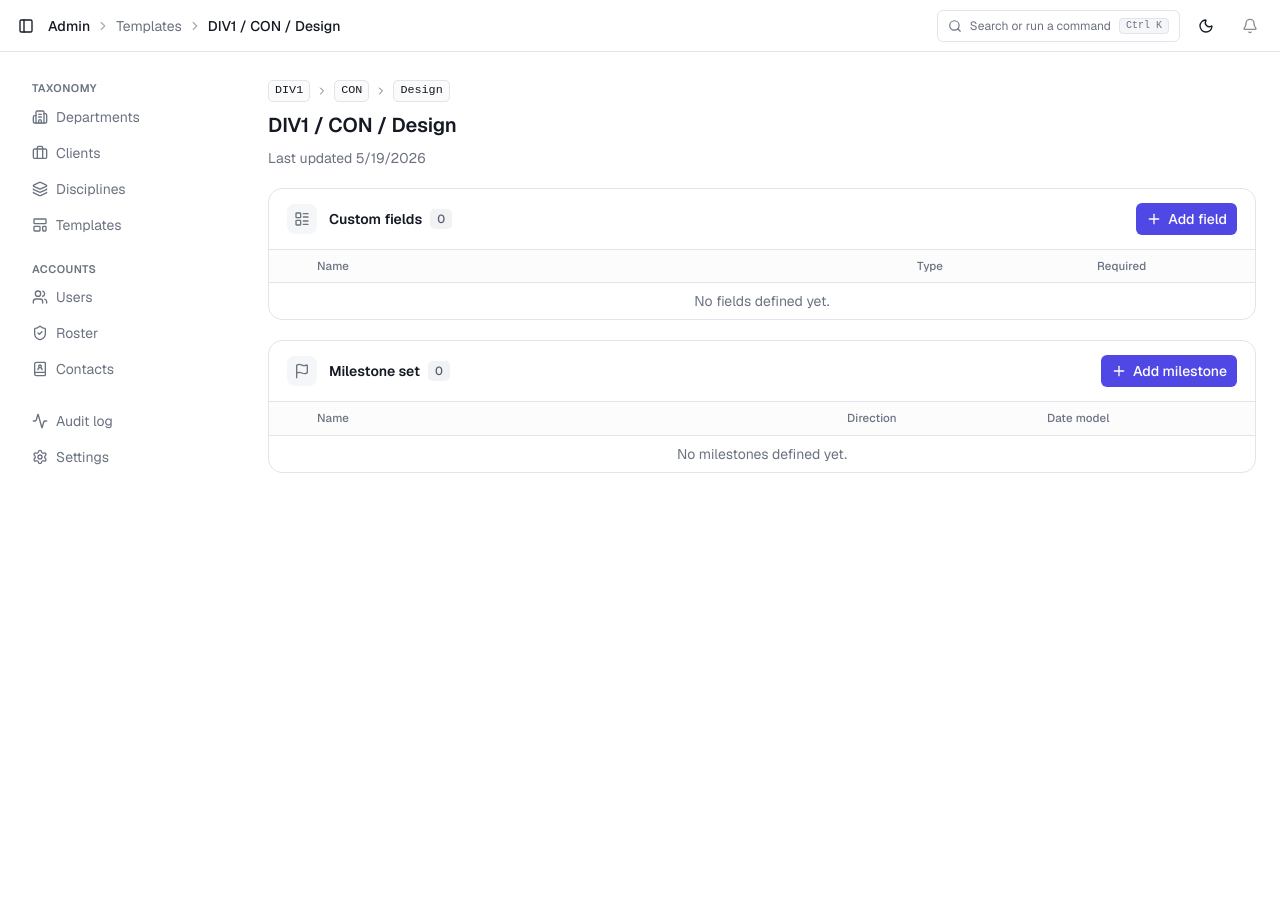
Test case: TemplateDetailPage › opens the New field sheet with the expected controls
The image size is (1280, 900).
Click the button "Add field": x=1187, y=219 x1=1136 y1=203 x2=1237 y2=235
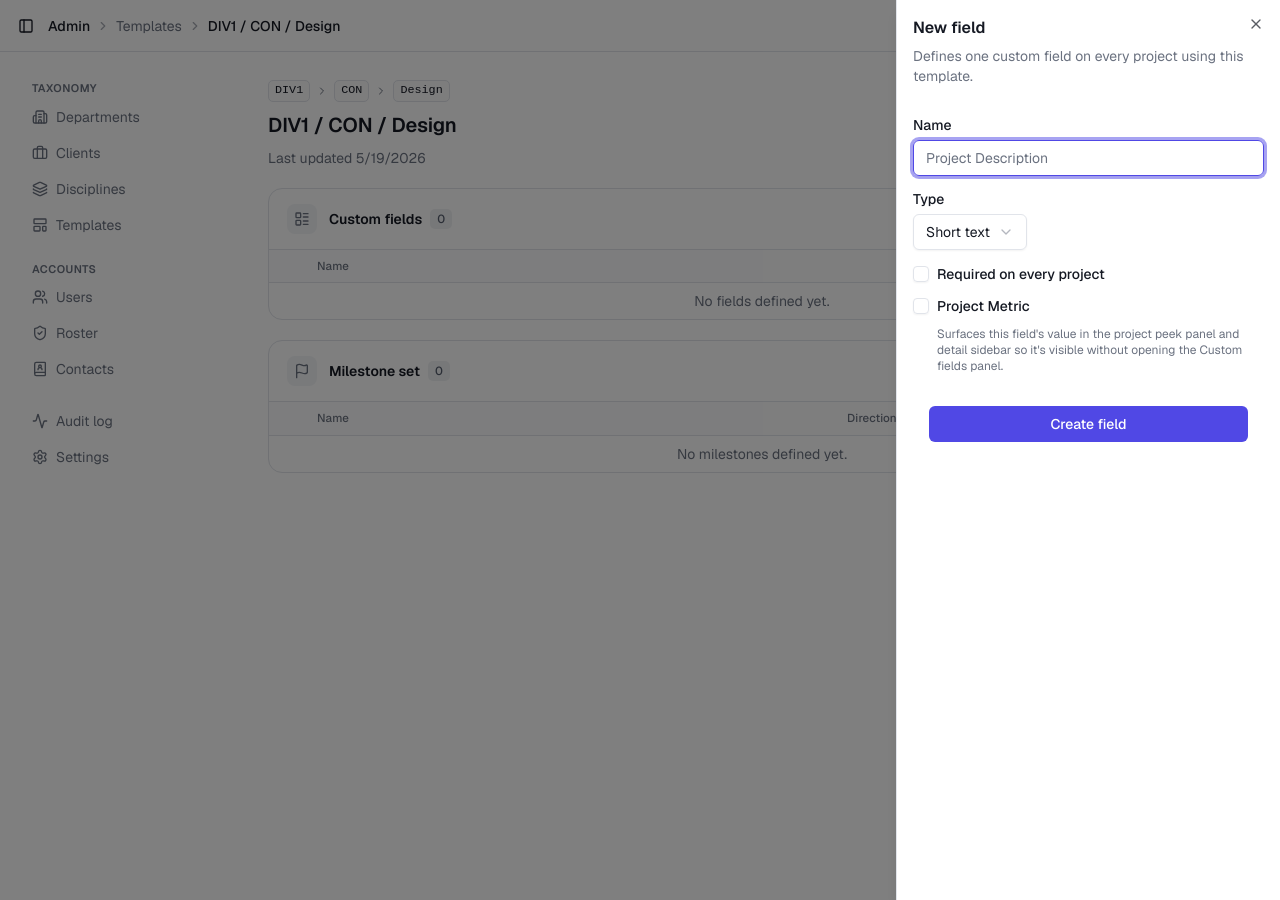
Now the field labelled "Name" is shown, box x1=913 y1=140 x2=1264 y2=176
Now the dropdown named "type" is shown, box x1=913 y1=214 x2=1027 y2=250
Now the checkbox named "required" next to "Required on every project" is shown, box x1=913 y1=266 x2=929 y2=282
